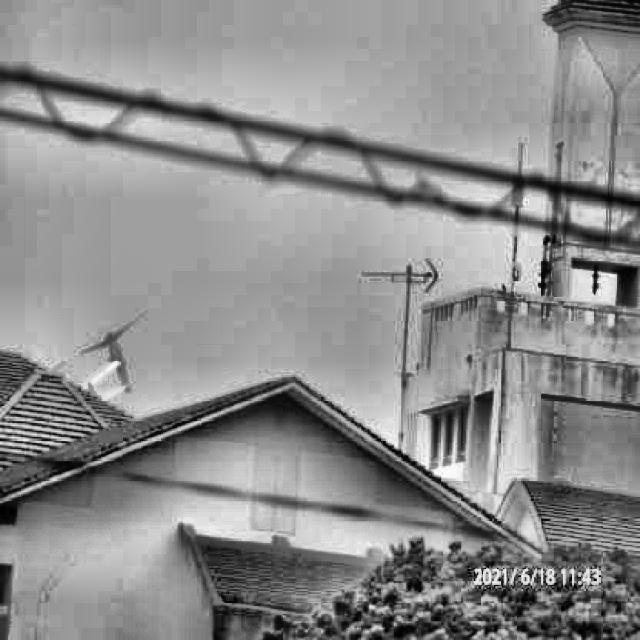V22: (52, 313, 145, 402)
